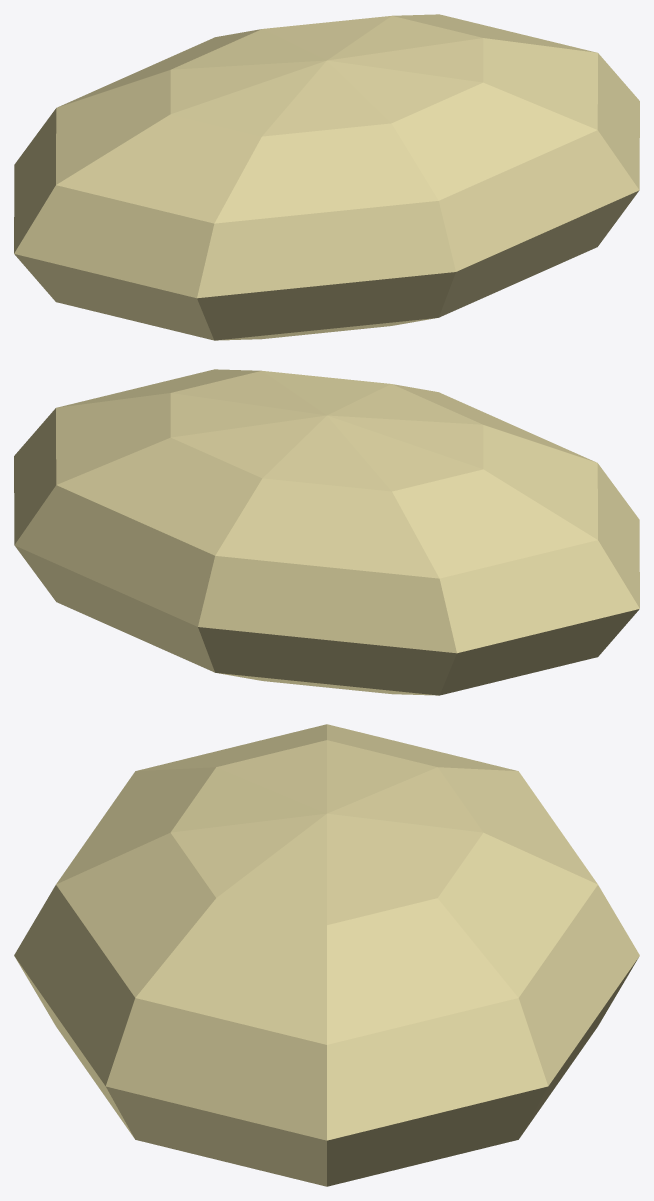
File: tinder.dae
3 views of the same model, one above another, from view 1: azimuth 30°, elevation 25°; view 2: azimuth 150°, elevation 25°; view 3: azimuth 270°, elevation 25° (orthographic). The views are drawn at different scales.
Parts seen in each view (by area): view 1: Sphere; view 2: Sphere; view 3: Sphere.
Part boxes in pixels (x1,y1,x2,y2): Sphere: (14,14,639,340); Sphere: (14,369,639,695); Sphere: (14,724,639,1186).
Size of the model in its own units: 22.4 by 16 by 8.
